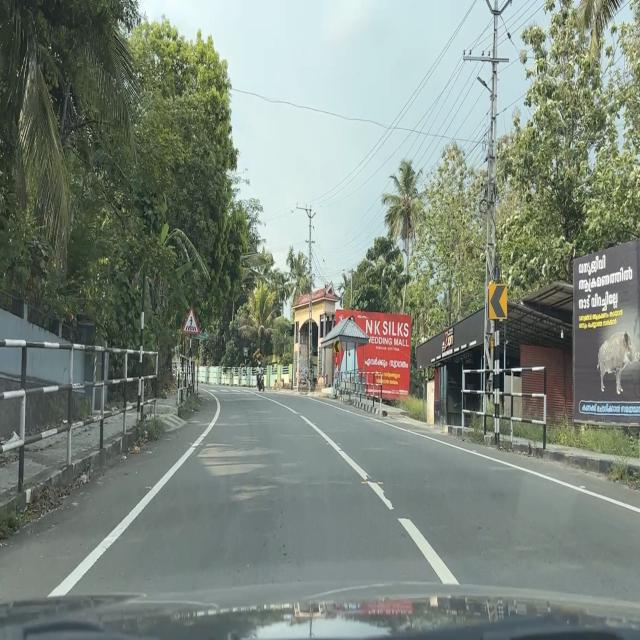PEDESTRIAN_CROSSING: (181, 307, 200, 334)
TURN_LEFT: (489, 284, 507, 320), (334, 340, 340, 352)
